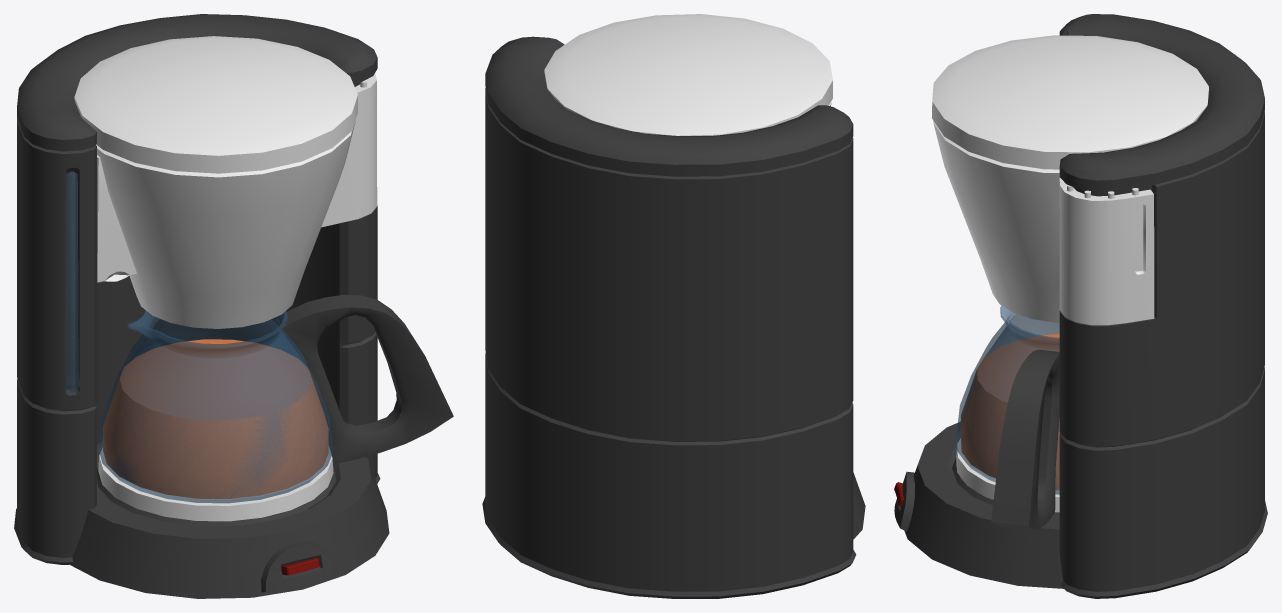
Rendered from SiemensCoffeepot001.FBX.
The picture shows the model from 3 angles, left to right: view 1: azimuth 30°, elevation 25°; view 2: azimuth 150°, elevation 25°; view 3: azimuth 270°, elevation 25°; orthographic projection. The views are drawn at different scales.
Parts seen in each view (by area): view 1: SiemensCoffeepot001; view 2: SiemensCoffeepot001; view 3: SiemensCoffeepot001.
Part boxes in pixels (x1=…): SiemensCoffeepot001: x1=14, y1=14, x2=453, y2=598; SiemensCoffeepot001: x1=482, y1=14, x2=865, y2=598; SiemensCoffeepot001: x1=894, y1=14, x2=1267, y2=598.
Bounding box in the file's own units: 30.09 × 26.09 × 33.62.
